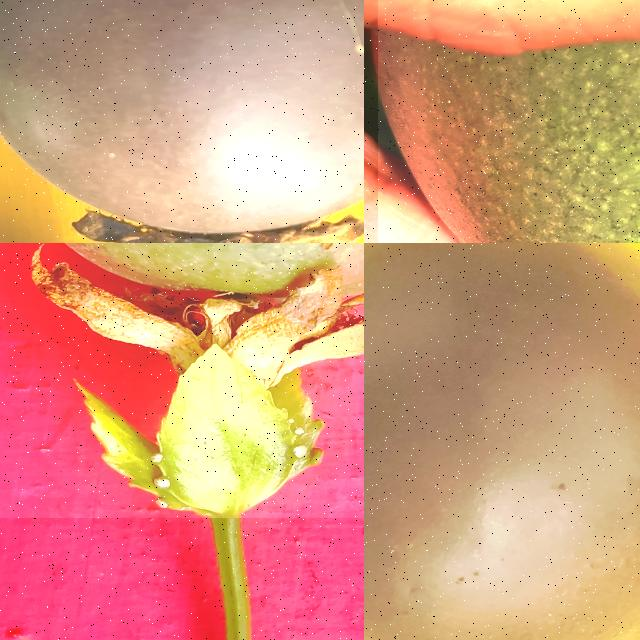Estado-1: (379, 36, 640, 243)
Estado-2: (35, 243, 364, 518)
Estado-6: (364, 243, 640, 640)
